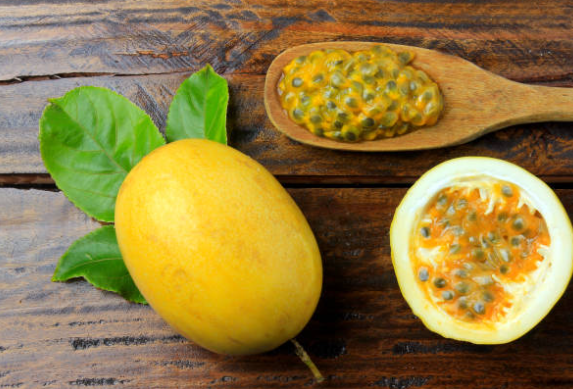maracuya: (109, 132, 331, 361)
